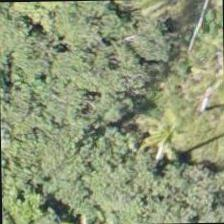Kelapa_Sawit: (120, 84, 212, 176)
